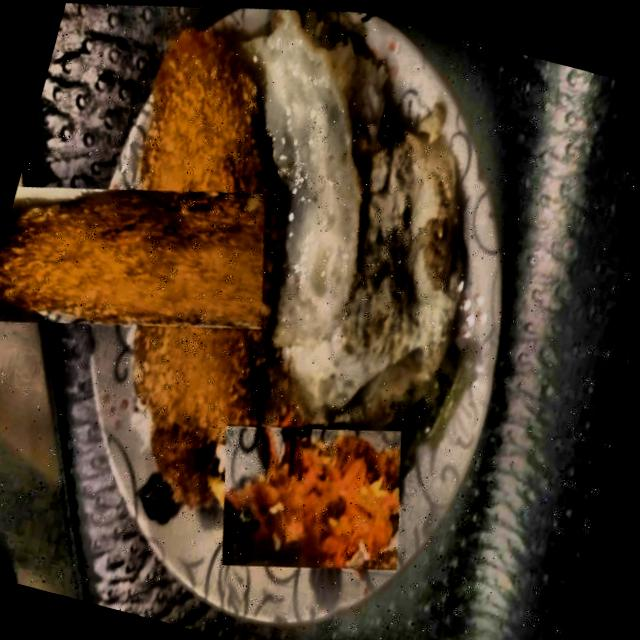Food: (0, 43, 422, 473), (172, 4, 556, 472), (193, 384, 435, 607)
